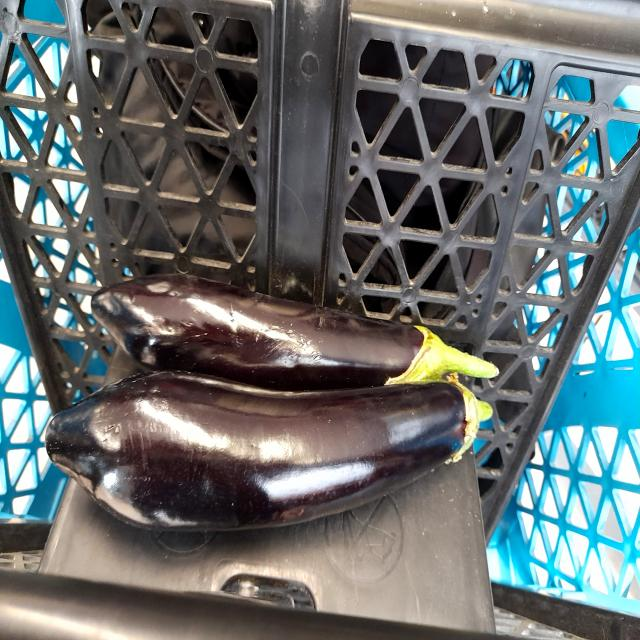eggplant: (42, 369, 517, 539), (84, 253, 501, 387)
